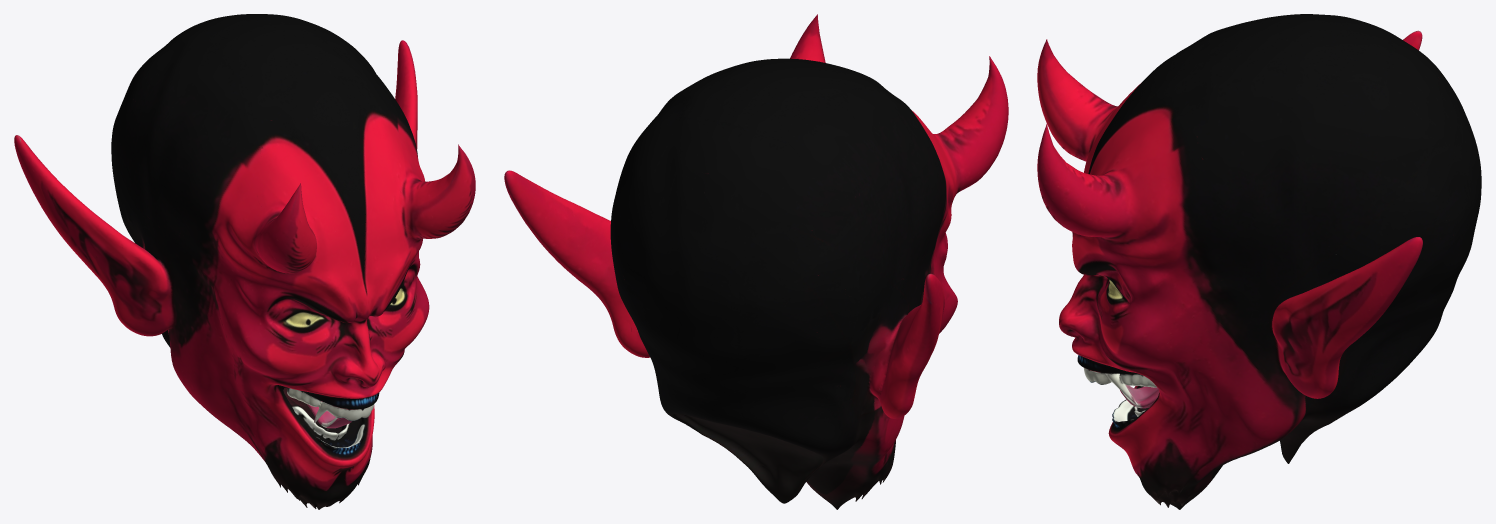
File: Meshy_AI_Crimson_Grin_20261102_texture.fbx
3 renders of one model, left to right at view 1: azimuth 30°, elevation 25°; view 2: azimuth 150°, elevation 25°; view 3: azimuth 270°, elevation 25°, orthographic. The views are drawn at different scales.
Visible parts, largest first — view 1: Mesh_0; view 2: Mesh_0; view 3: Mesh_0.
Boxes of the visible parts, box(x1,y1,x2,y2) form: Mesh_0: box(14, 14, 475, 509); Mesh_0: box(504, 14, 1008, 509); Mesh_0: box(1037, 14, 1481, 509).
Bounding box in the file's own units: 178 × 190 × 159.
1 material, 1 textured.
